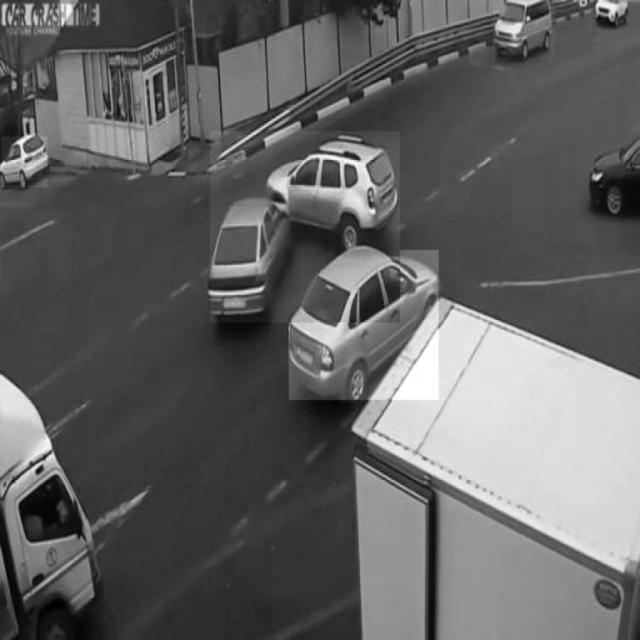accident: (210, 132, 400, 322)
vehicle: (289, 250, 439, 401), (493, 1, 555, 59), (1, 137, 47, 188)
